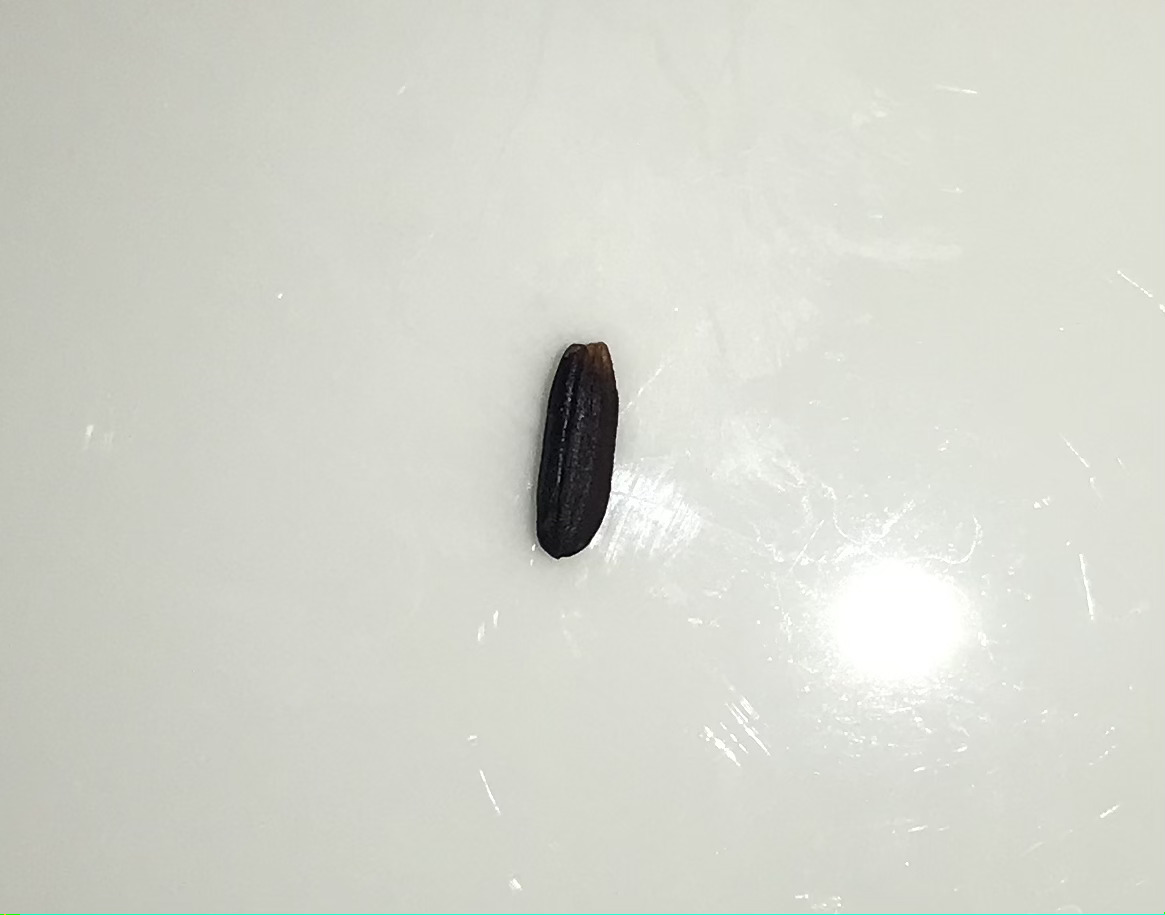Gao lut: (540, 342, 629, 567)
